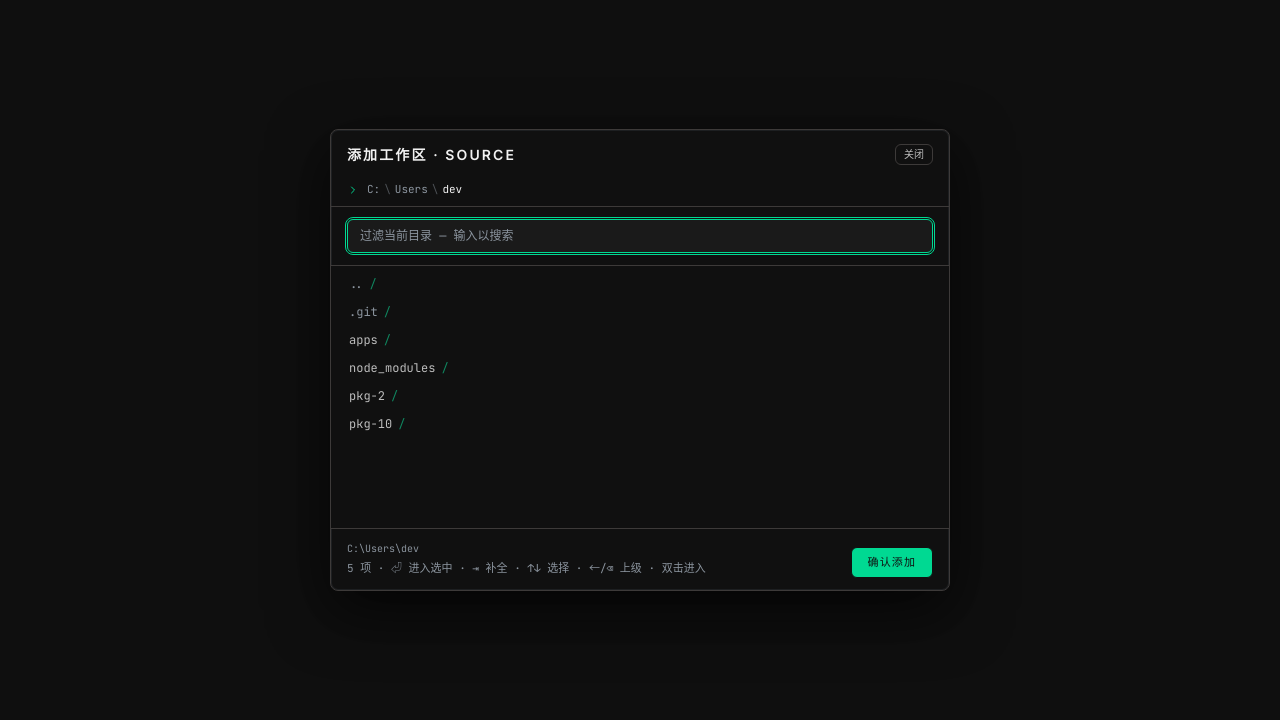
Scenario: WorkspacePickerModal › 输入过滤目录,匹配段高亮
In the field with placeholder "过滤当前目录 — 输入以搜索": x=640, y=236 [347,219,933,253], type "pkg"
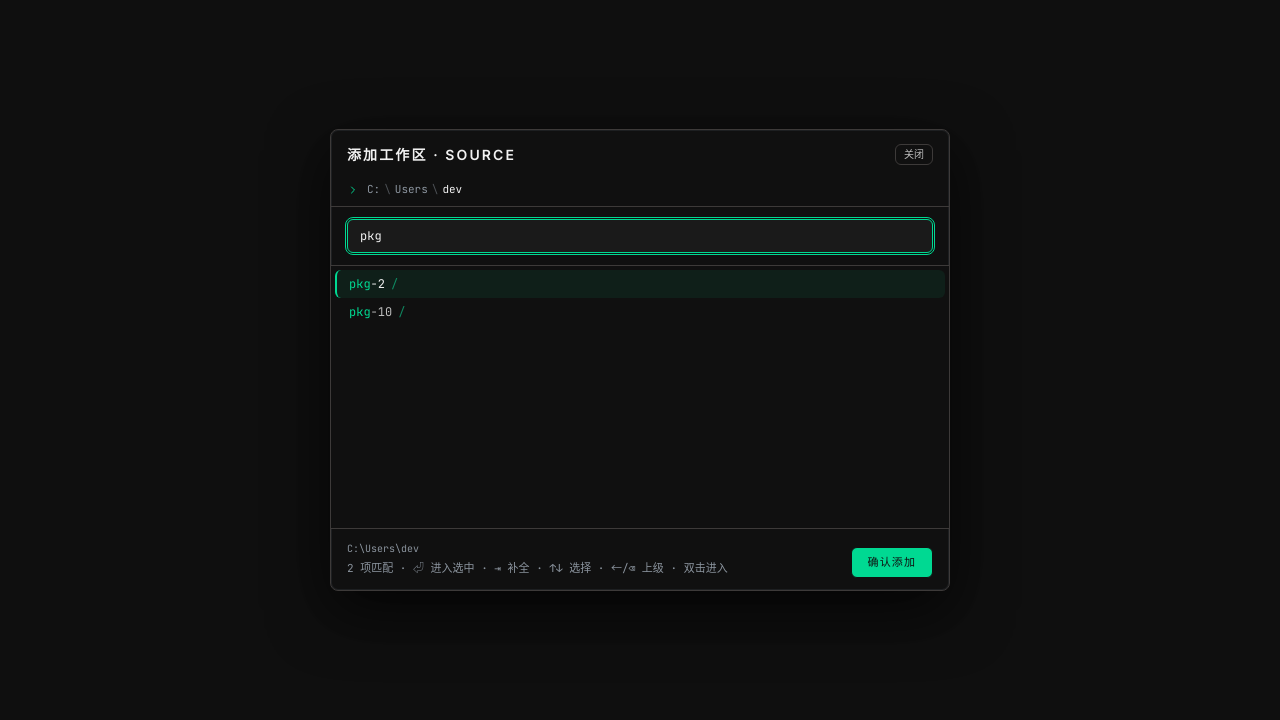
# 无匹配时给出提示
Replace the text in the field with "zzz": x=640, y=236 [347,219,933,253]
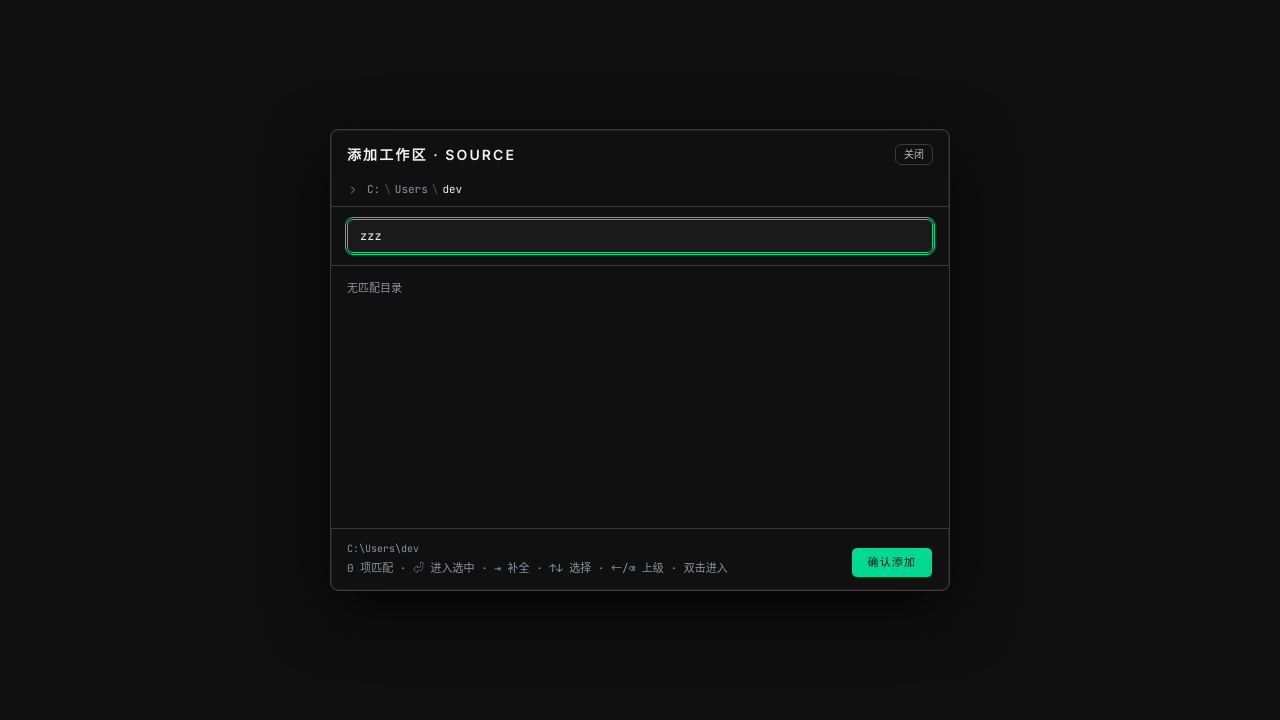
Expected: the text "无匹配目录" is shown, [347,281,402,295]
